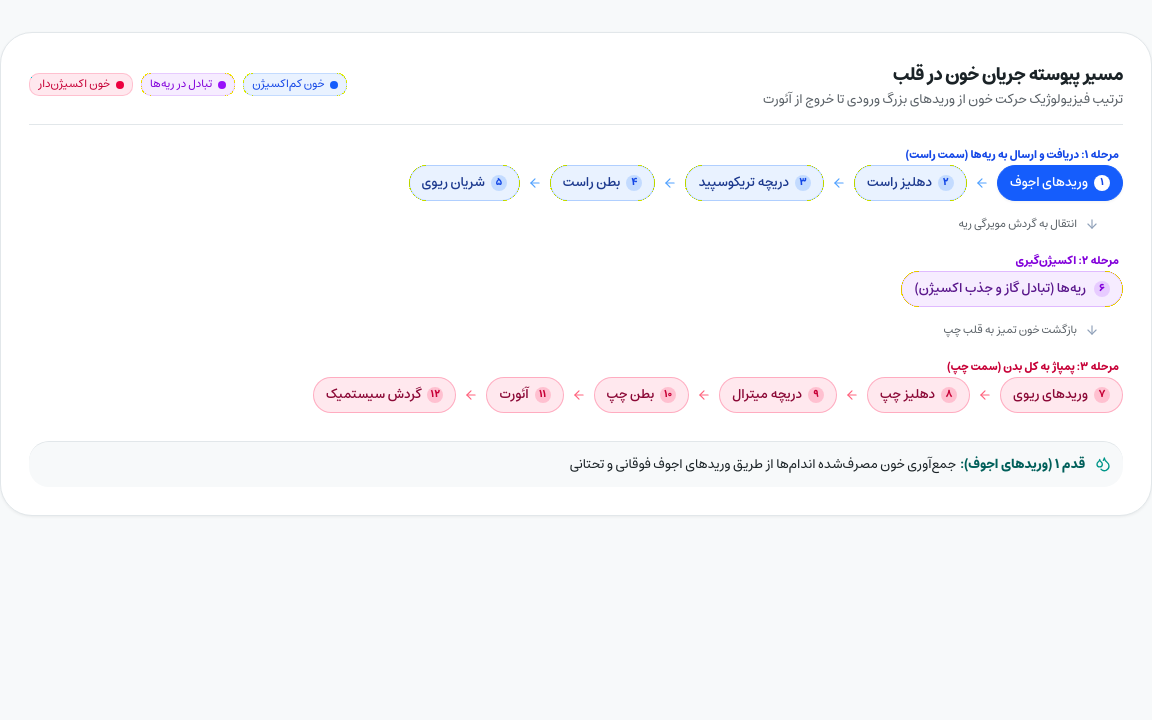
it: Anatomy & Visual Content POC Test Suite › 2. BloodFlowVisualizer Component › displays the correct oxygenation phase legends and updates description on step click
This screenshot has width=1152, height=720.
Expected: the text "خون کم‌اکسیژن" is shown, [252,76,324,93]
Expected: the text "تبادل در ریه‌ها" is shown, [150,76,212,93]
Click on Aorta step
Click the button "۱۱ آئورت" at {"x": 525, "y": 395}, box [486,377,564,413]
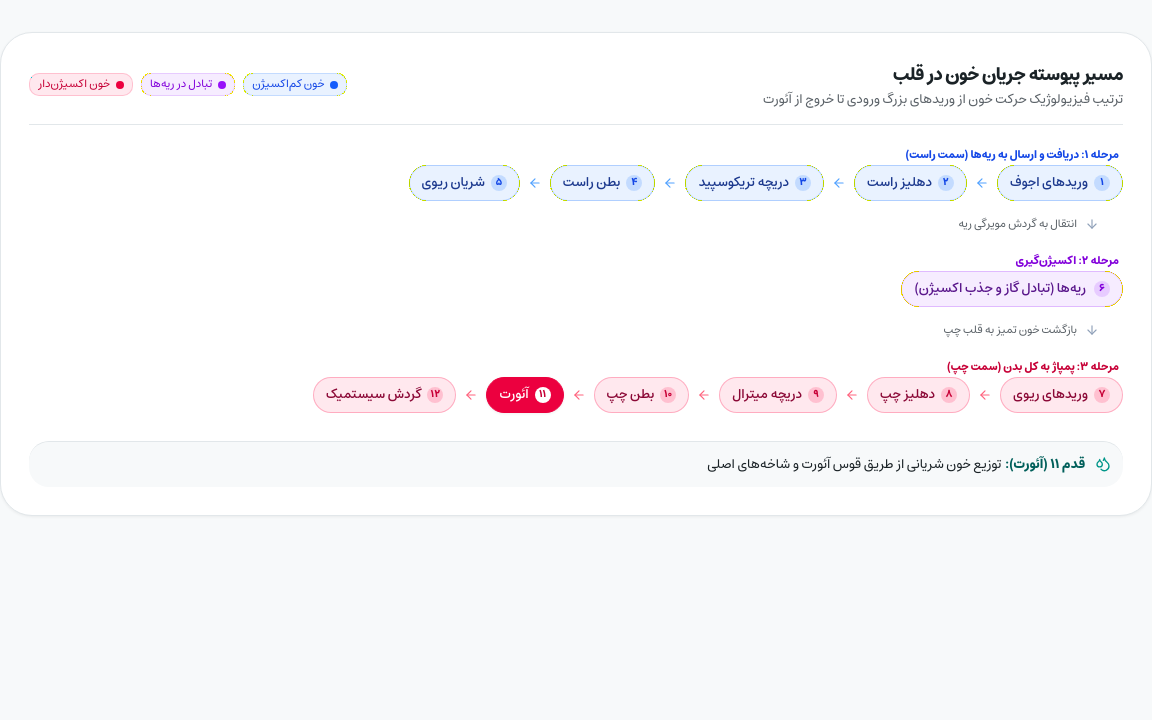
Expected: the text "توزیع خون شریانی از طریق قوس آئورت و شاخه‌های اصلی" is shown, [707,453,1001,476]
